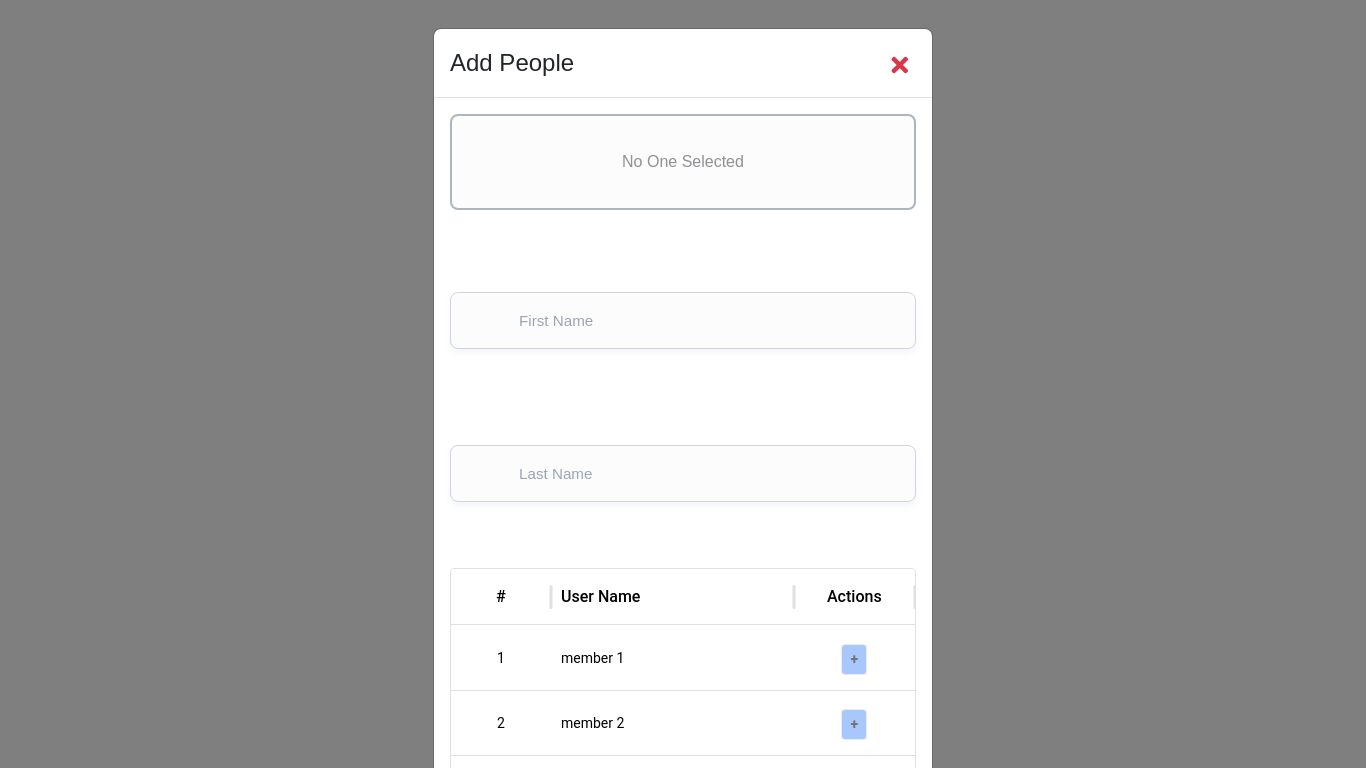
Test: Organisation Tags Page › searchs for tags where the firstName matches the provided firstName search input
# clear and type value
Clear the search field with placeholder "First Name" at point(673, 320), box x1=471 y1=312 x2=875 y2=329
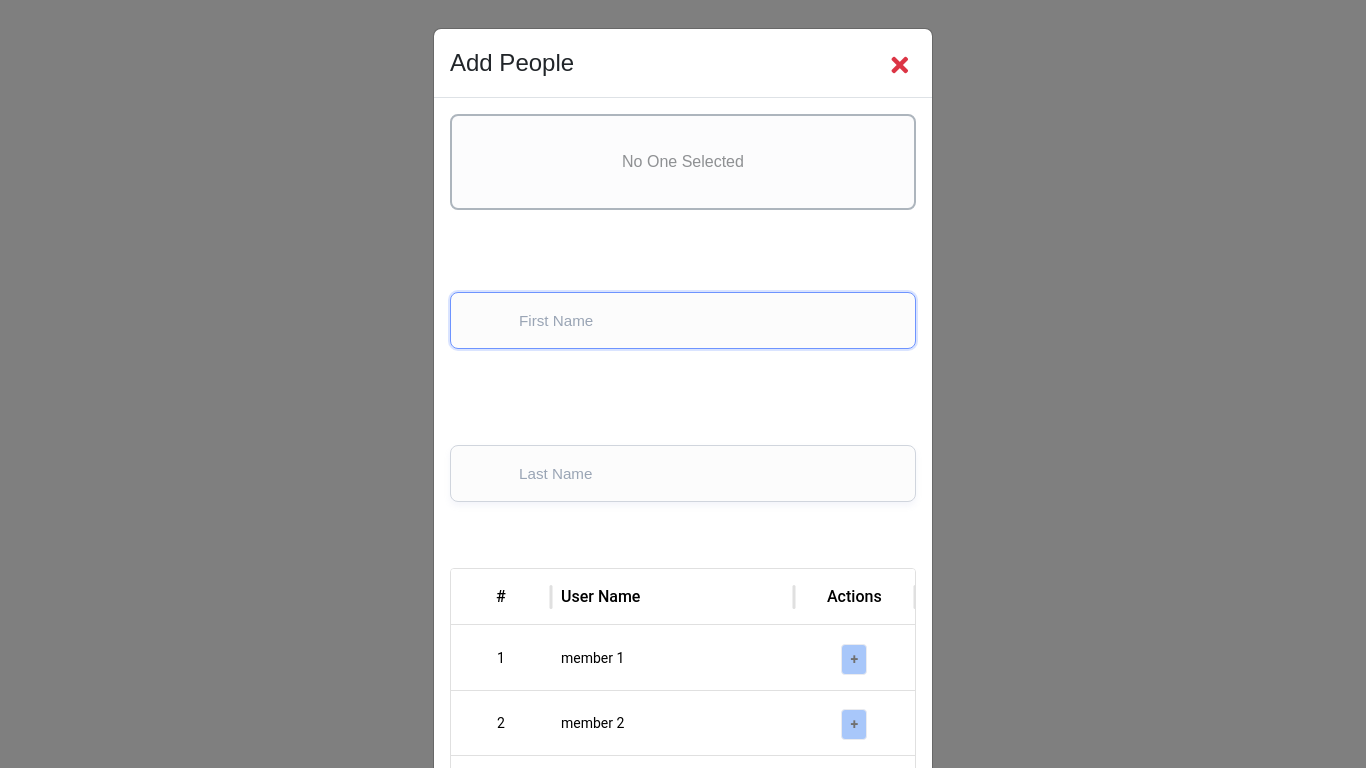
Type keys "usersToAssignTo"
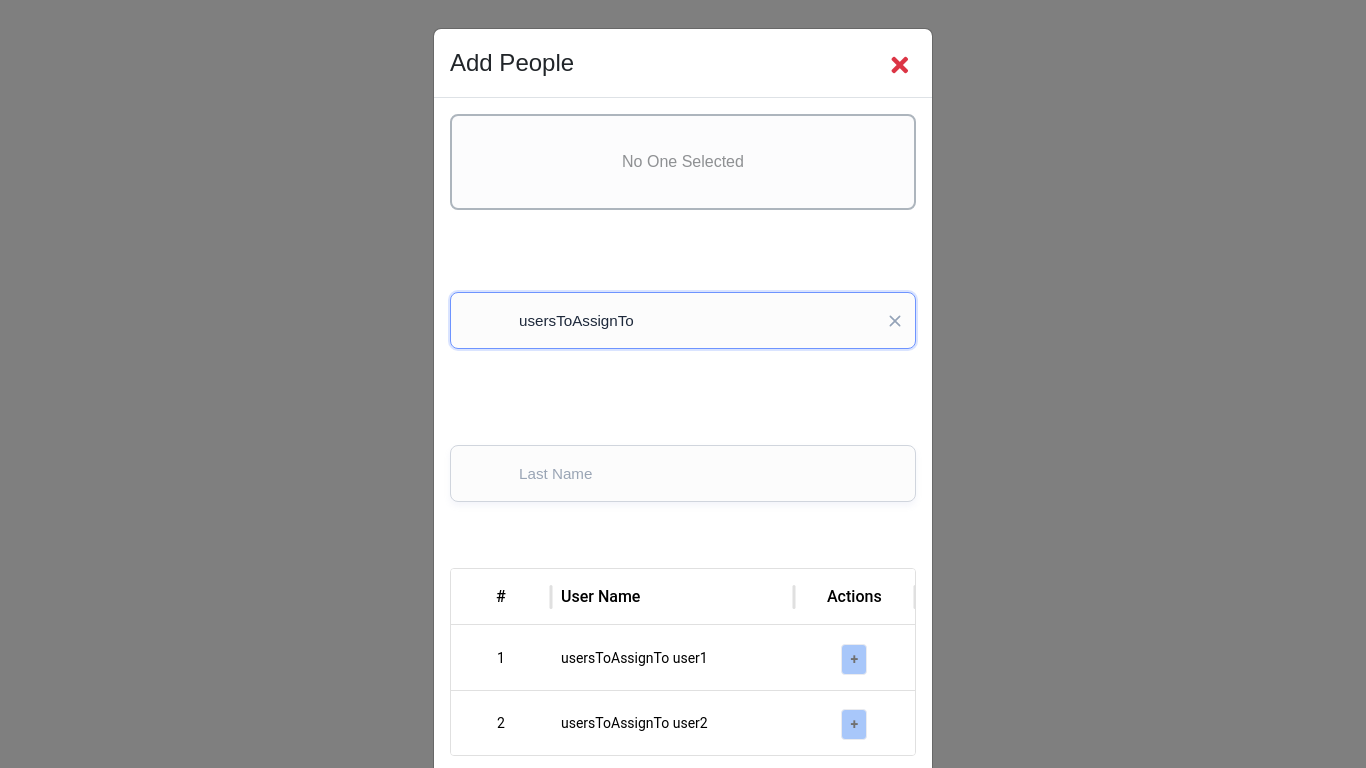
Expected: the number of elements with test id "memberName" is 2, x1=561 y1=650 x2=708 y2=666; x1=561 y1=715 x2=708 y2=731
Expected: the text with test id "memberName" reads "usersToAssignTo user1", x1=561 y1=650 x2=708 y2=666
Expected: the text with test id "memberName" reads "usersToAssignTo user2", x1=561 y1=715 x2=708 y2=731
